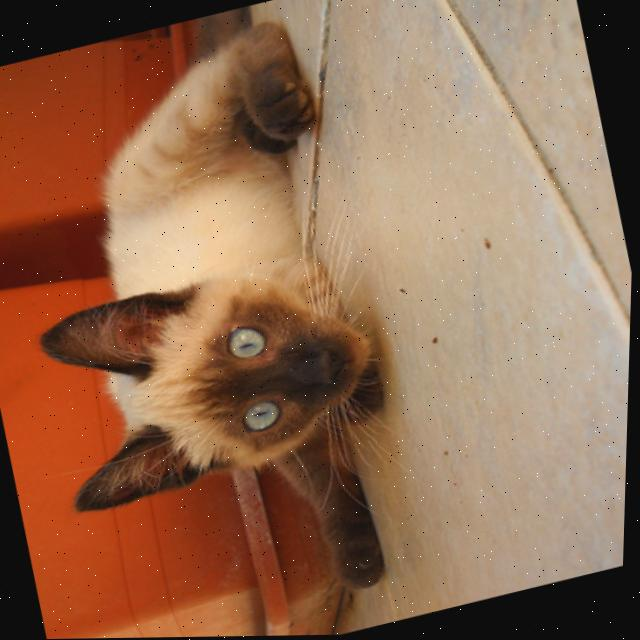Siamese: (0, 0, 448, 640)
